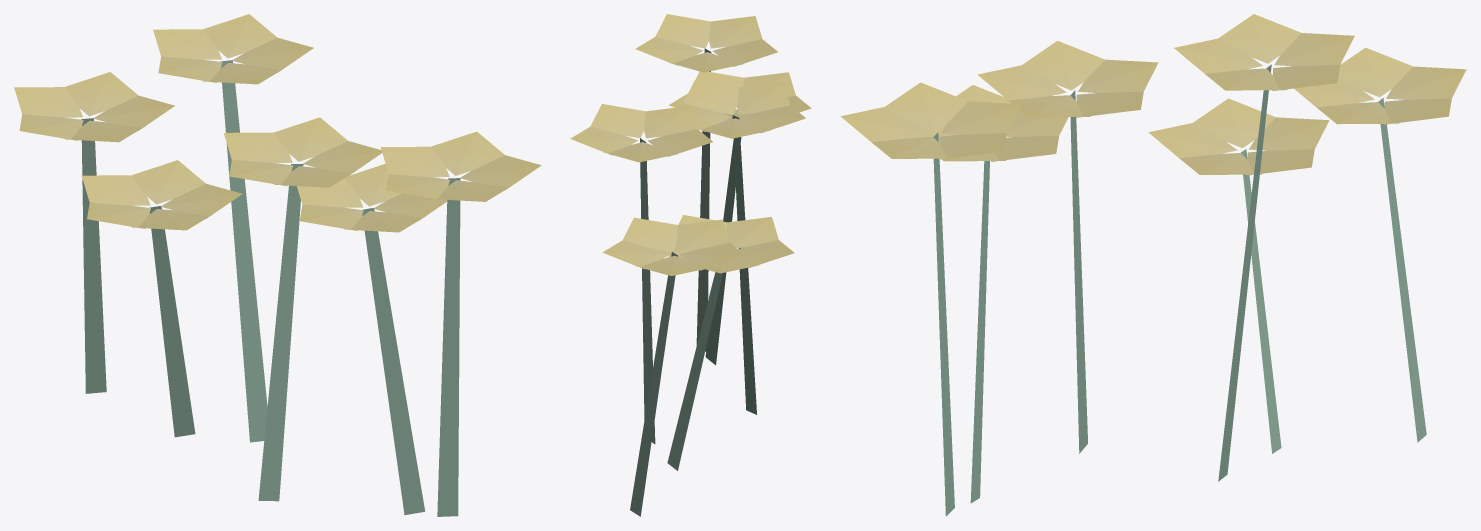
The model's file is buttercup.glb.
3 renders of one model, left to right at view 1: azimuth 30°, elevation 25°; view 2: azimuth 150°, elevation 25°; view 3: azimuth 270°, elevation 25°, orthographic. The views are drawn at different scales.
Visible parts, largest first — view 1: near; view 2: near; view 3: near.
Boxes of the visible parts, x1,y1,x2,y2 form: near: (14,14,541,516); near: (570,14,811,516); near: (841,14,1466,516).
Size of the model in its own units: 0.2019 by 0.2393 by 0.3245.
